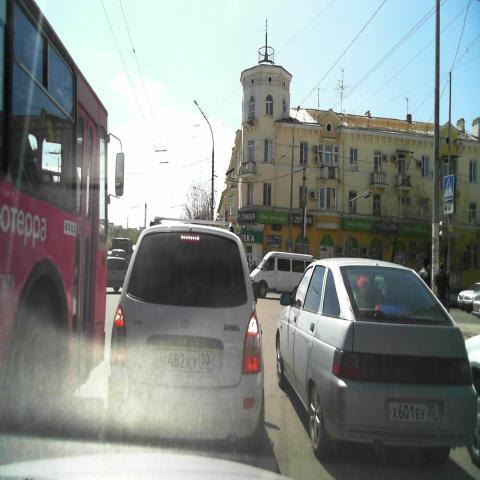8_15: (442, 202, 454, 214)
